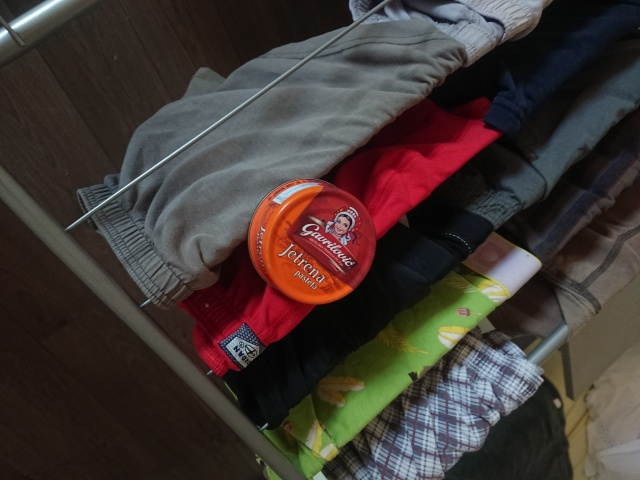Gavrilovic Pork Liver Pate 100g: (244, 175, 381, 309)
